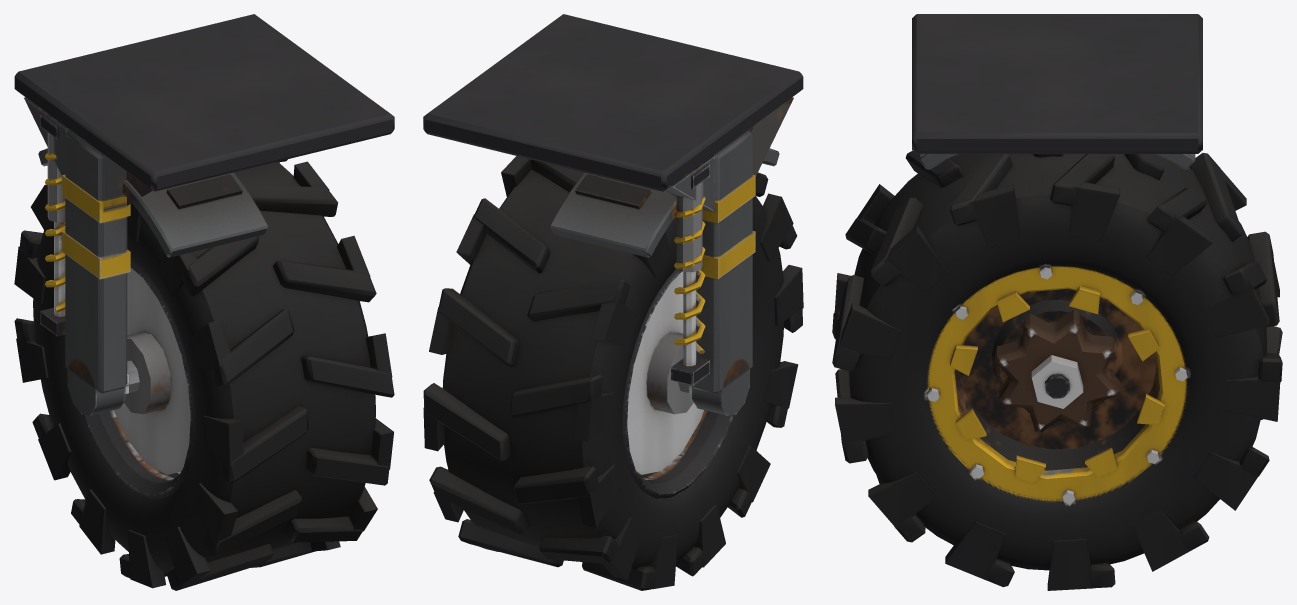
Rendered from R4M_Wheel.glb.
3 renders of one model, left to right at view 1: azimuth 30°, elevation 25°; view 2: azimuth 150°, elevation 25°; view 3: azimuth 270°, elevation 25°, orthographic. The views are drawn at different scales.
Visible parts, largest first — view 1: R4M_Wheel_Rotor, R4M_Wheel_Mount; view 2: R4M_Wheel_Rotor, R4M_Wheel_Mount; view 3: R4M_Wheel_Rotor, R4M_Wheel_Mount.
Boxes of the visible parts, box(x1,y1,x2,y2) form: R4M_Wheel_Rotor: box(14, 159, 394, 590); R4M_Wheel_Mount: box(14, 14, 394, 415); R4M_Wheel_Rotor: box(423, 156, 803, 590); R4M_Wheel_Mount: box(423, 14, 803, 415); R4M_Wheel_Rotor: box(832, 150, 1282, 590); R4M_Wheel_Mount: box(912, 14, 1202, 169).
Bounding box in the file's own units: 0.504 × 0.91 × 0.7743.
Materials: 1 (1 with a texture image).
